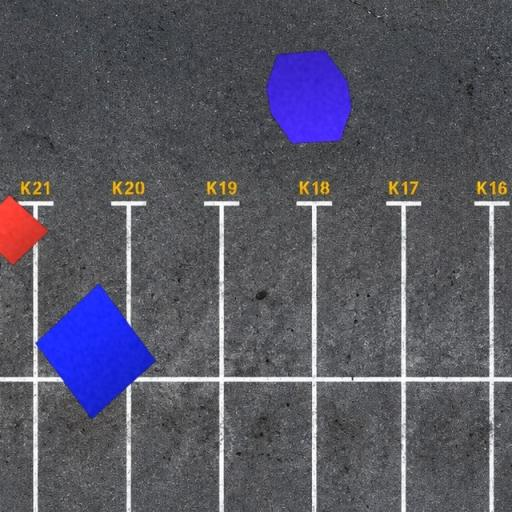BLUE_SQUARE: (34, 282, 157, 420)
RED_SQUARE: (0, 194, 50, 266)
